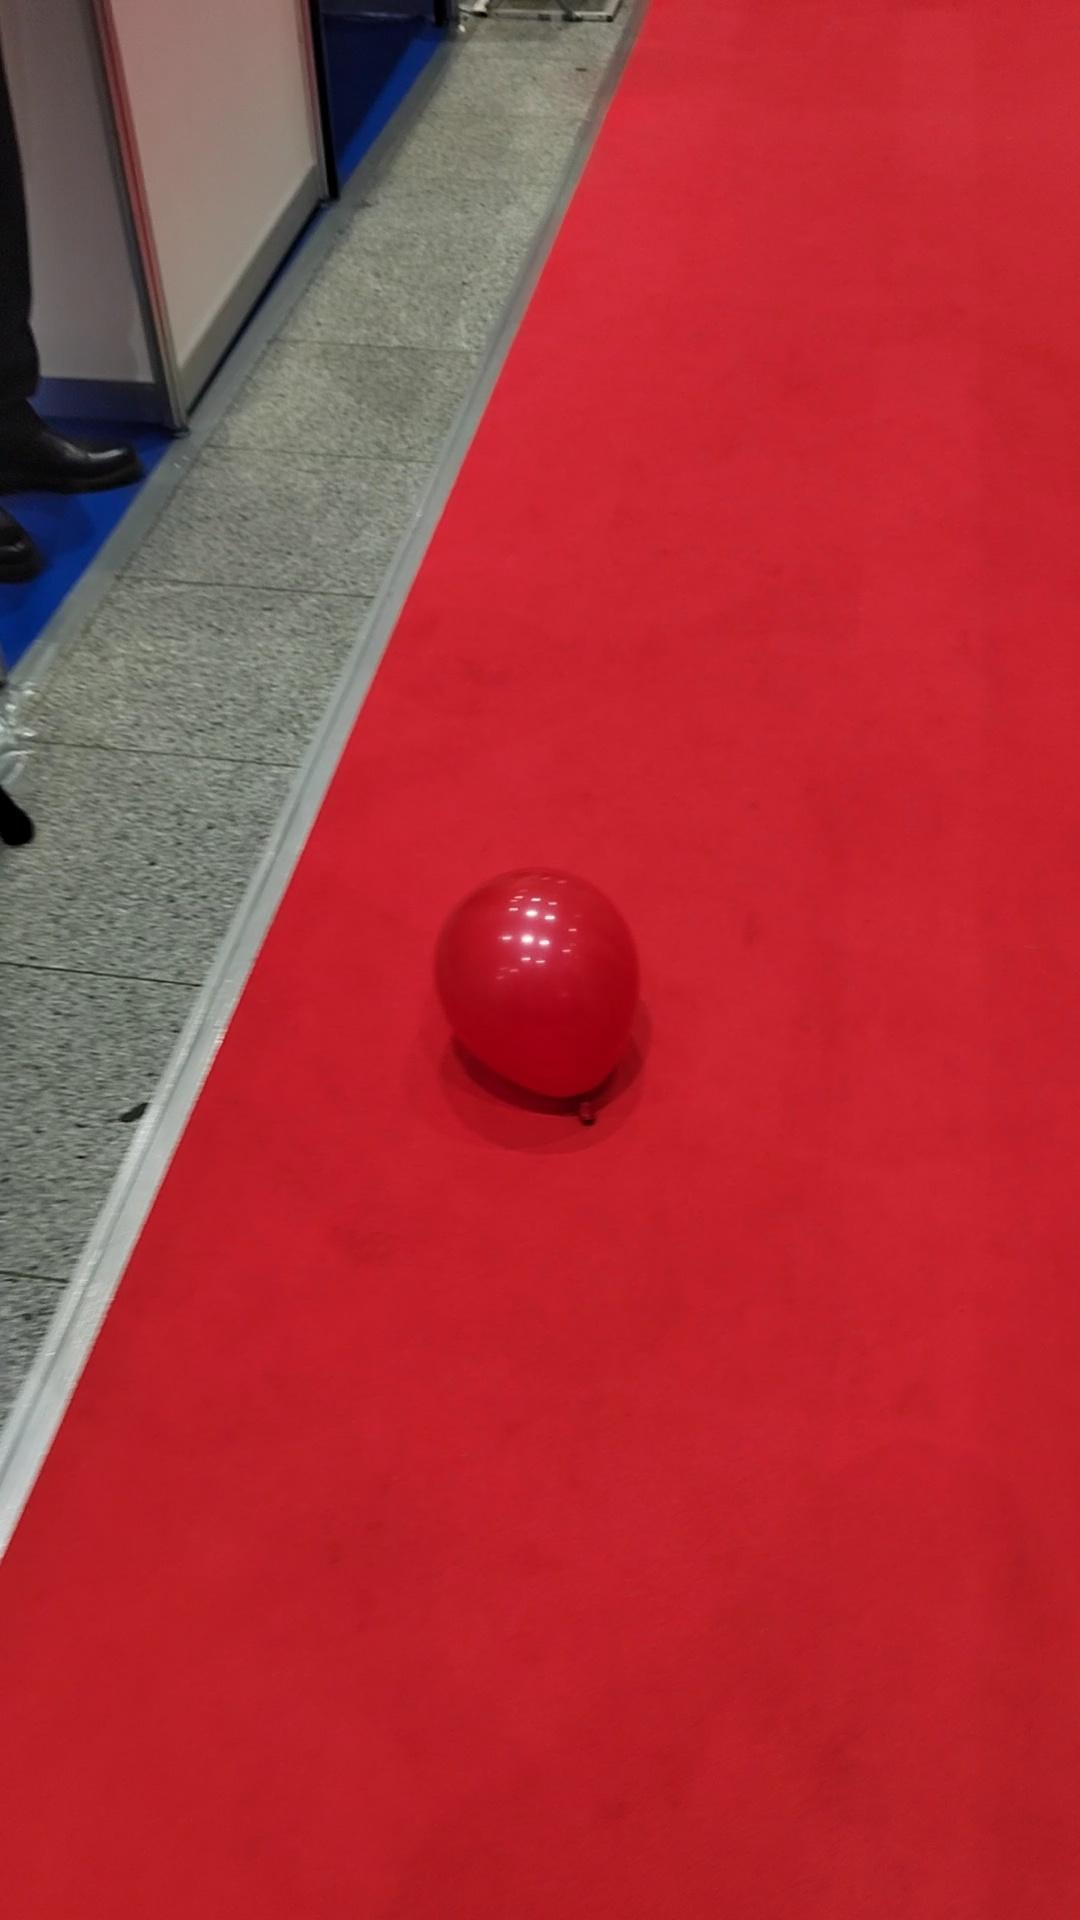red: (435, 869, 640, 1101)
